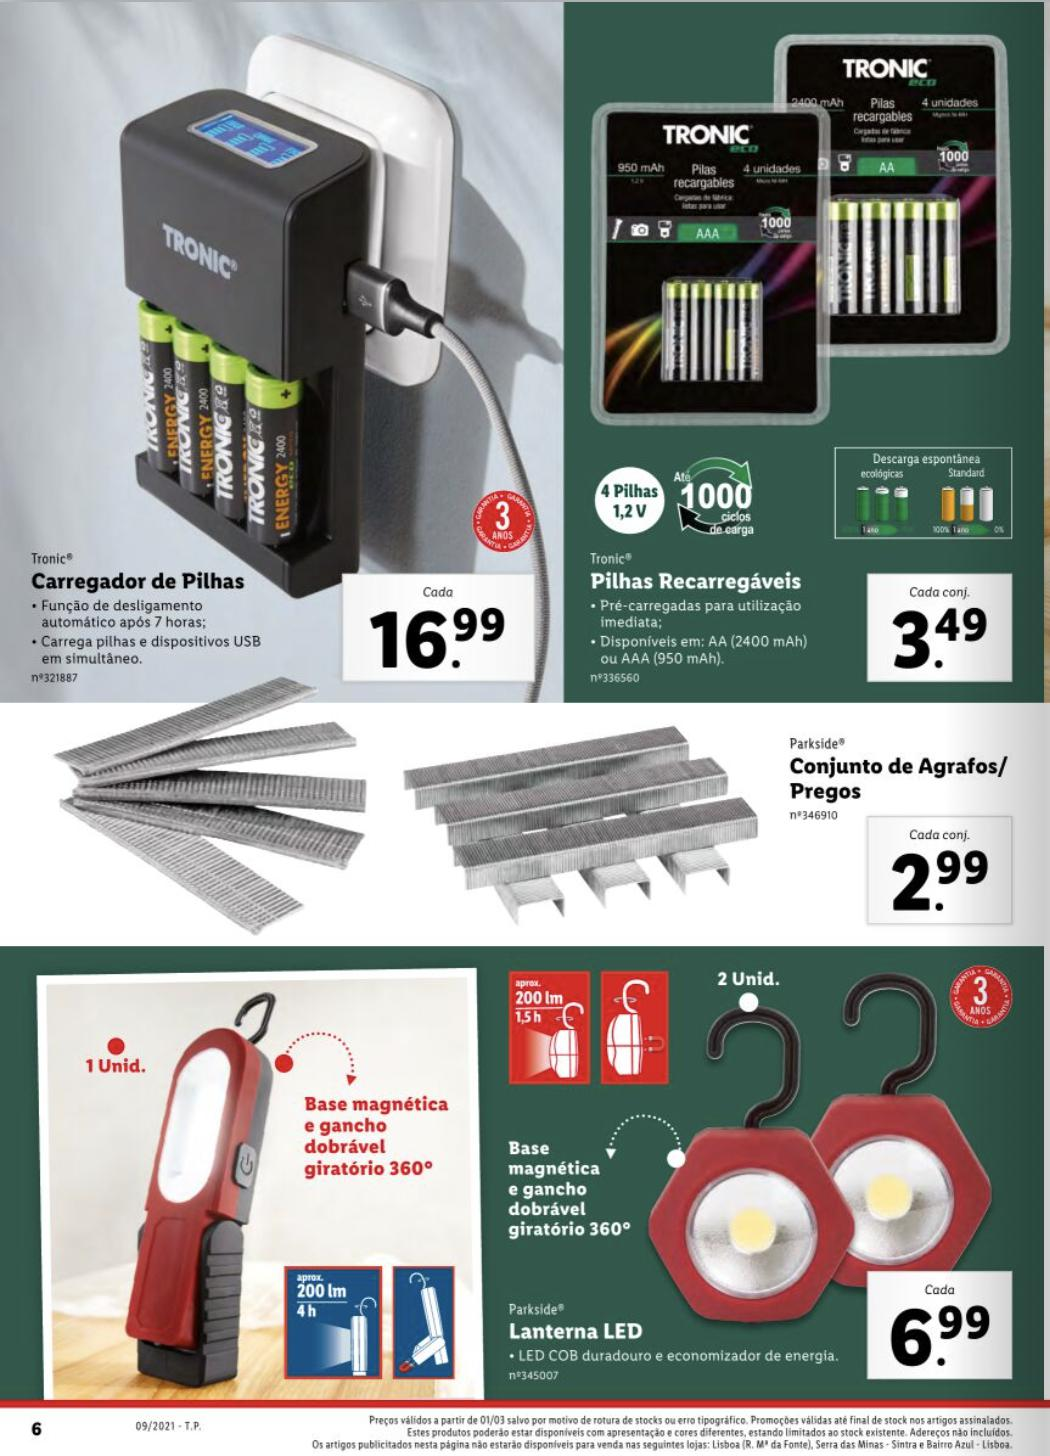name: (783, 752, 1014, 800), (28, 563, 254, 598), (585, 567, 810, 600), (503, 1320, 648, 1351)
price: (361, 596, 512, 674), (886, 1295, 995, 1369), (885, 603, 990, 678), (888, 843, 990, 915)
product: (3, 963, 1036, 1405), (19, 36, 566, 694), (574, 14, 1032, 700), (47, 722, 1039, 931)
